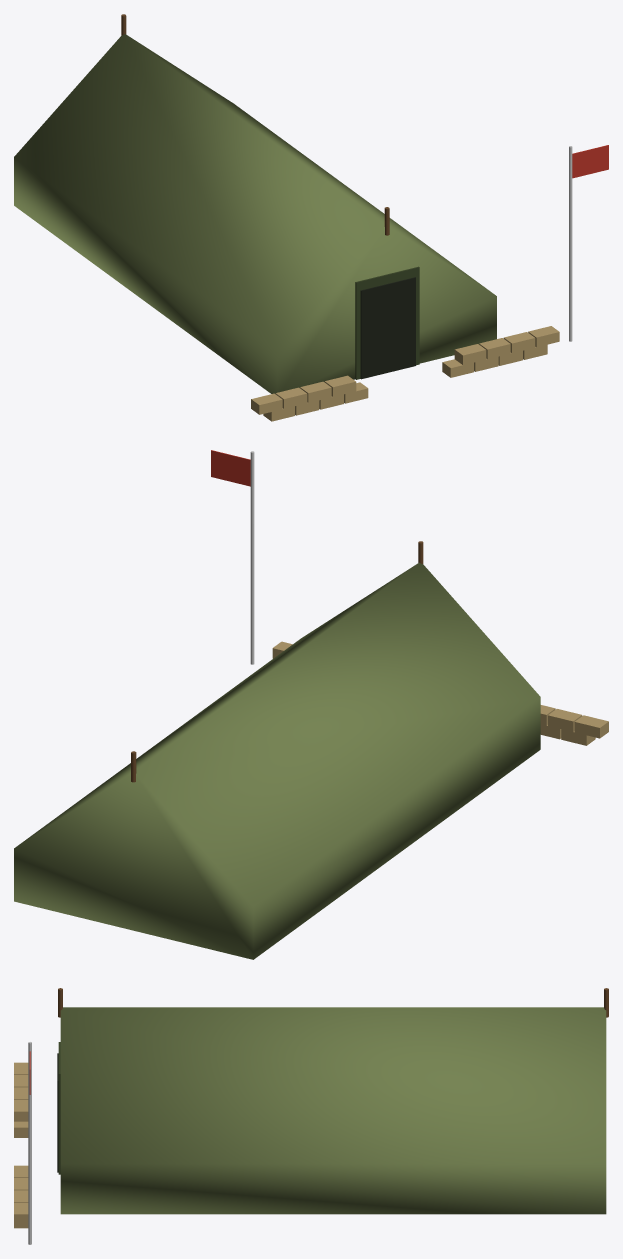
File: barracks_tent.glb
3 renders of one model, top to bottom at view 1: azimuth 30°, elevation 25°; view 2: azimuth 150°, elevation 25°; view 3: azimuth 270°, elevation 25°, orthographic. The views are drawn at different scales.
Visible parts, largest first — view 1: barracks_tent; view 2: barracks_tent; view 3: barracks_tent.
Part boxes in pixels (x1,y1,x2,y2): barracks_tent: (14, 14, 608, 421); barracks_tent: (14, 450, 608, 959); barracks_tent: (14, 988, 608, 1244).
Size of the model in its own units: 8.45 by 4.4 by 11.77.
